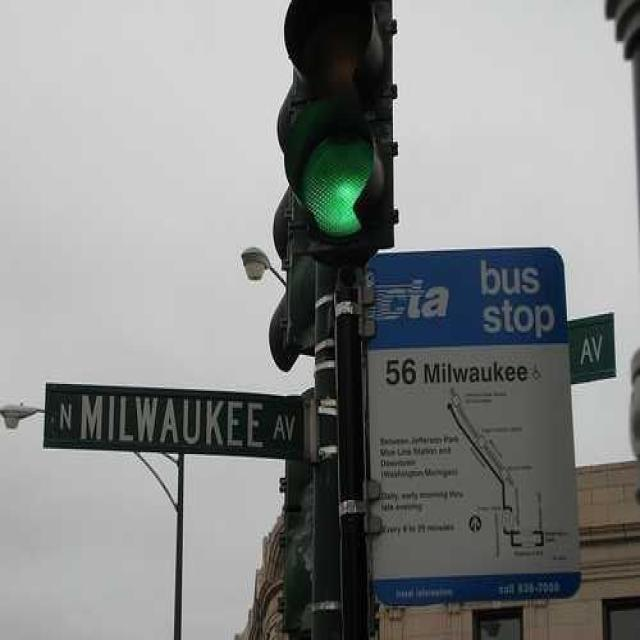Traffic Light -Green-: (259, 0, 403, 247)
